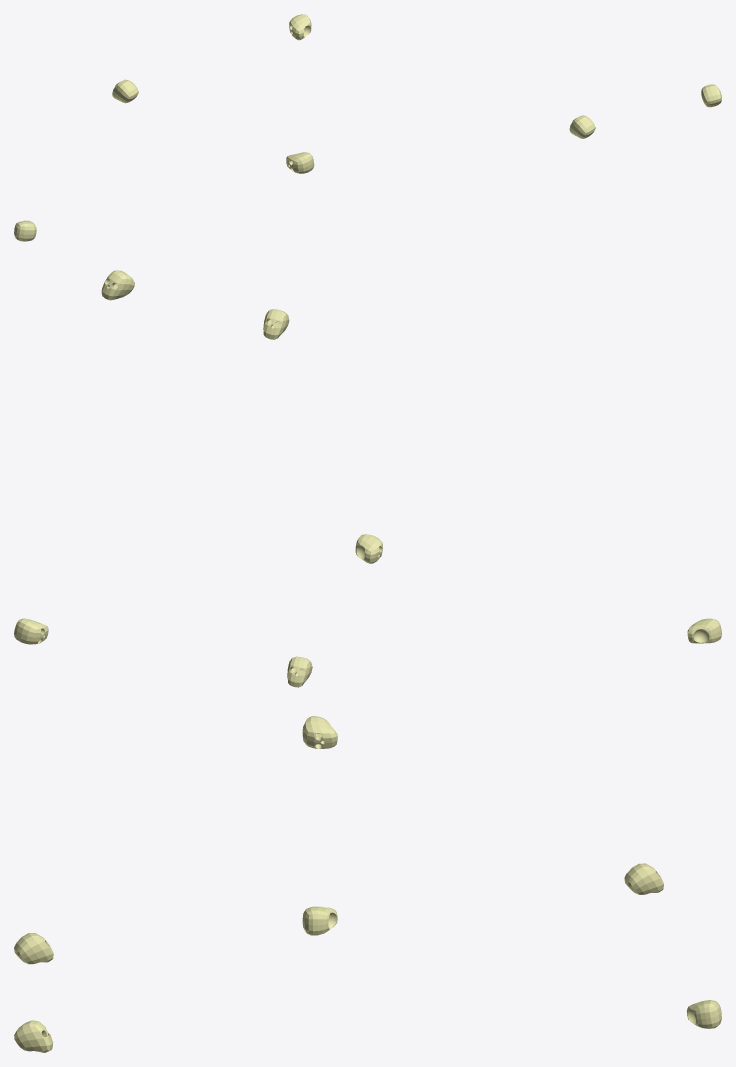
Rendered from CAVEIRAS.fbx.
The picture shows the model from 3 angles, top to bottom: view 1: azimuth 30°, elevation 25°; view 2: azimuth 150°, elevation 25°; view 3: azimuth 270°, elevation 25°; orthographic projection. The views are drawn at different scales.
Parts seen in each view (by area): view 1: caveiras; view 2: caveiras; view 3: caveiras.
Part boxes in pixels (x1,y1,x2,y2): caveiras: [14, 14, 721, 241]; caveiras: [14, 270, 721, 687]; caveiras: [14, 716, 721, 1052].
Size of the model in its own units: 911 by 125 by 664.
